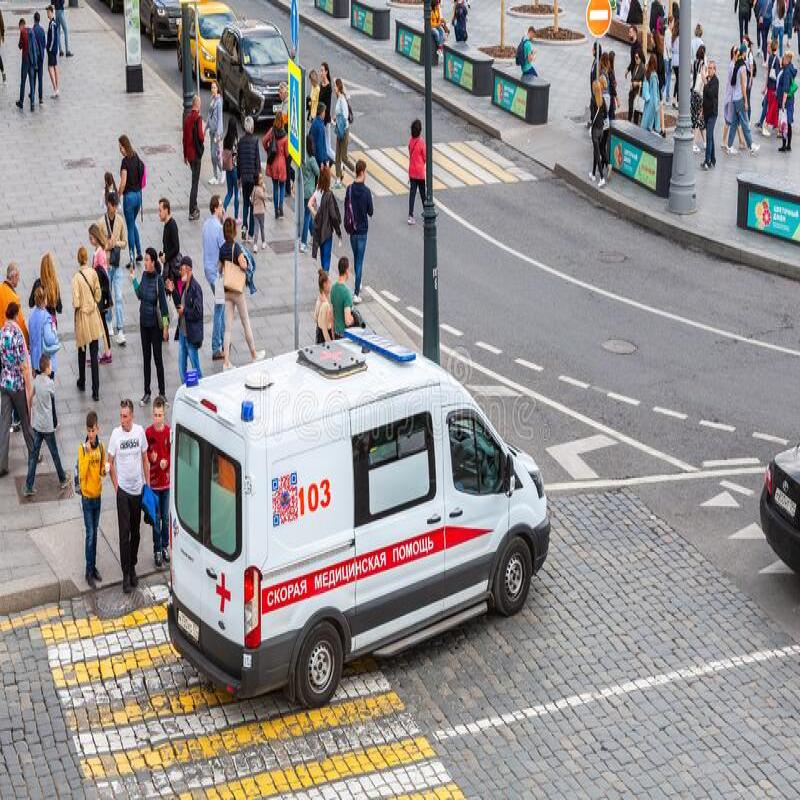AmbulanceSiren: (344, 310, 418, 378)
ambulance: (165, 337, 546, 671)
